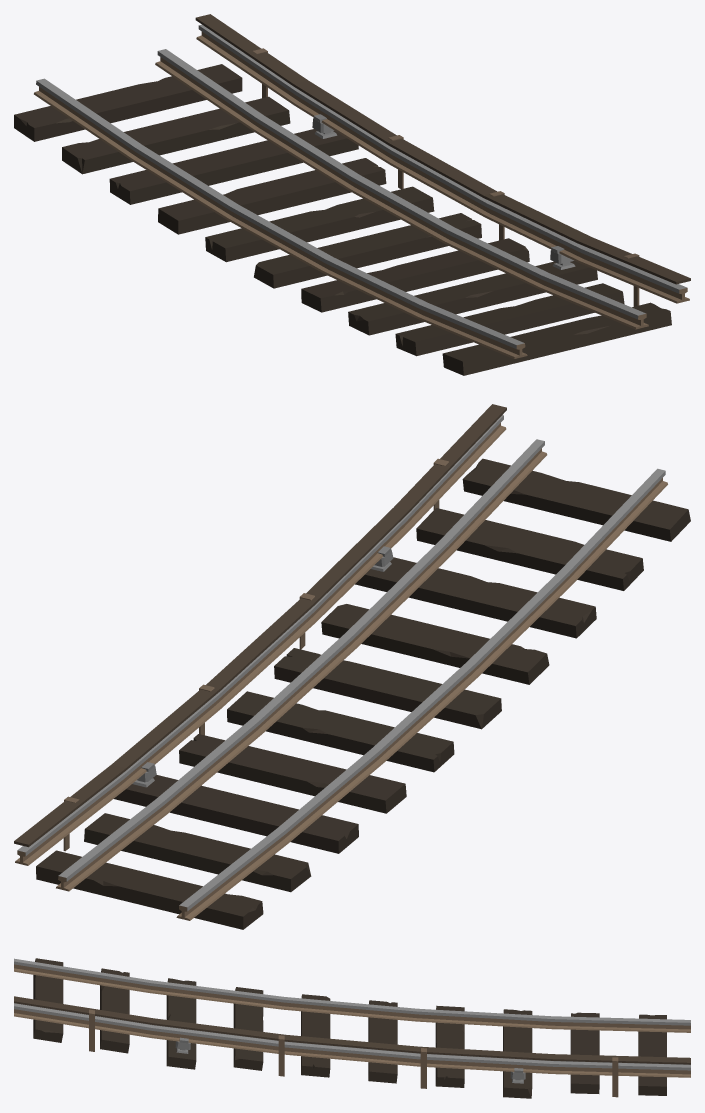
Rendered from SW_ENV_TrackRiser_A.fbx.
3 views of the same model, one above another, from view 1: azimuth 30°, elevation 25°; view 2: azimuth 150°, elevation 25°; view 3: azimuth 270°, elevation 25° (orthographic). The views are drawn at different scales.
Parts seen in each view (by area): view 1: SW_ENV_TrackRiser_A; view 2: SW_ENV_TrackRiser_A; view 3: SW_ENV_TrackRiser_A.
Boxes of the visible parts, left/top/right/bottom form: SW_ENV_TrackRiser_A: left=14, top=14, right=690, bottom=375; SW_ENV_TrackRiser_A: left=14, top=404, right=690, bottom=929; SW_ENV_TrackRiser_A: left=14, top=958, right=690, bottom=1098.
Bounding box in the file's own units: 275 × 157 × 1000.
